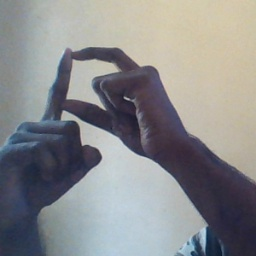D: (34, 40, 150, 157)
